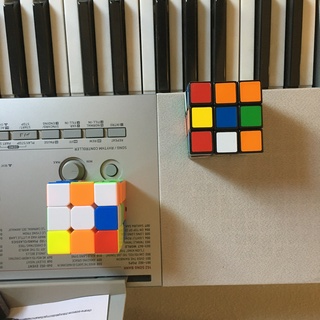face: (189, 82, 264, 153), (47, 182, 118, 254)
